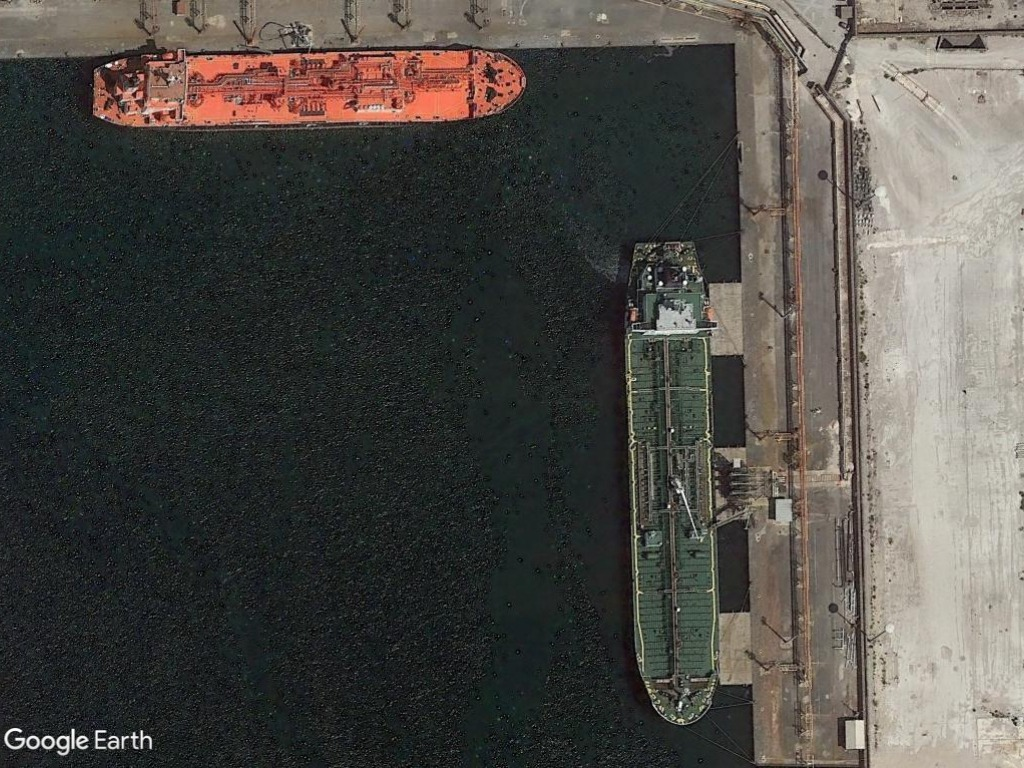boat: (618, 235, 716, 732), (87, 46, 531, 135)
